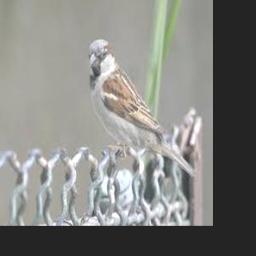Sparrow: (87, 38, 197, 181)
